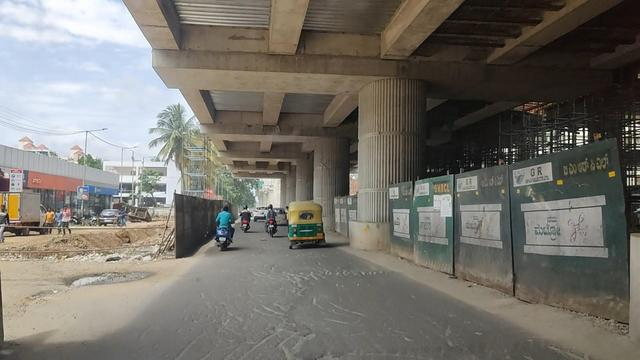LMV: (286, 201, 327, 257), (214, 202, 234, 256), (265, 202, 281, 248)
RoadDamages: (192, 301, 560, 357), (235, 257, 383, 307), (61, 266, 161, 296)
